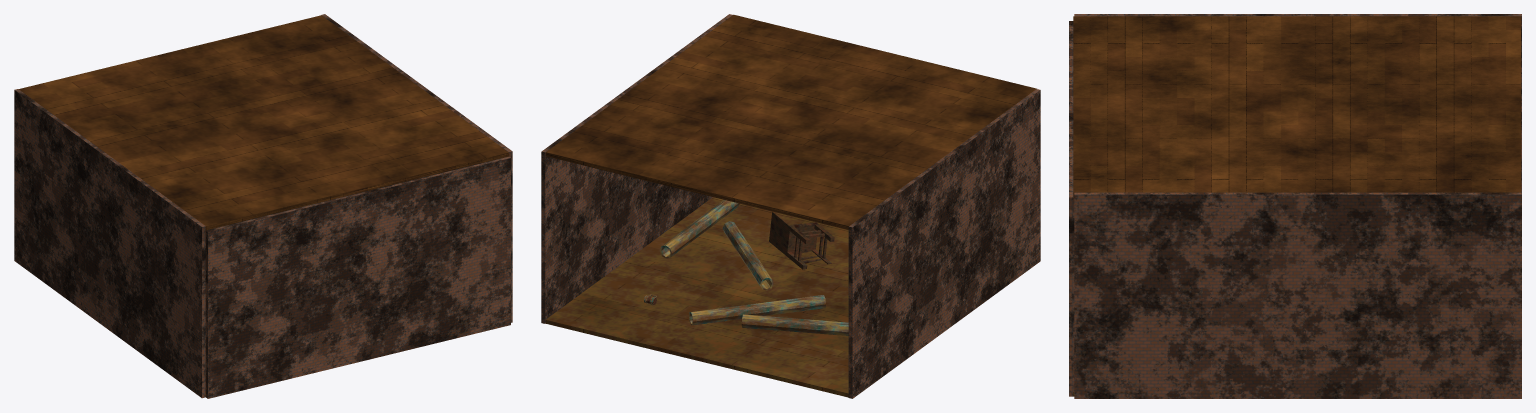
Rendered from EmptyRoom.fbx.
3 renders of one model, left to right at view 1: azimuth 30°, elevation 25°; view 2: azimuth 150°, elevation 25°; view 3: azimuth 270°, elevation 25°, orthographic. The views are drawn at different scales.
Parts seen in each view (by area): view 1: DirtyCeiling.001, SideWall1.007, SideWall1.003, SideWall1.004; view 2: DirtyCeiling.001, SideWall1.003, DirtyGround.001, SideWall1.004, RottenChair, OxidisedAlternatePipe.007, OxidisedAlternatePipe.010, OxidisedAlternatePipe.009, OxidisedAlternatePipe.006; view 3: SideWall1.004, DirtyCeiling.001, SideWall1.007, SideWall1.003.
Part boxes in pixels (x1,y1,x2,y2): DirtyCeiling.001: (19, 15, 509, 230); SideWall1.007: (205, 156, 510, 398); SideWall1.003: (14, 89, 205, 398); SideWall1.004: (321, 14, 512, 322); DirtyCeiling.001: (545, 14, 1036, 229); SideWall1.003: (848, 89, 1040, 398); DirtyGround.001: (545, 197, 848, 397); SideWall1.004: (541, 14, 732, 323); RottenChair: (769, 212, 834, 269); OxidisedAlternatePipe.007: (689, 295, 825, 325); OxidisedAlternatePipe.010: (741, 314, 848, 335); OxidisedAlternatePipe.009: (659, 200, 739, 258); OxidisedAlternatePipe.006: (722, 221, 773, 290); SideWall1.004: (1074, 192, 1521, 398); DirtyCeiling.001: (1073, 16, 1520, 197); SideWall1.007: (1069, 21, 1074, 396); SideWall1.003: (1074, 14, 1521, 192).
Size of the model in its own units: 517 by 272 by 547.
